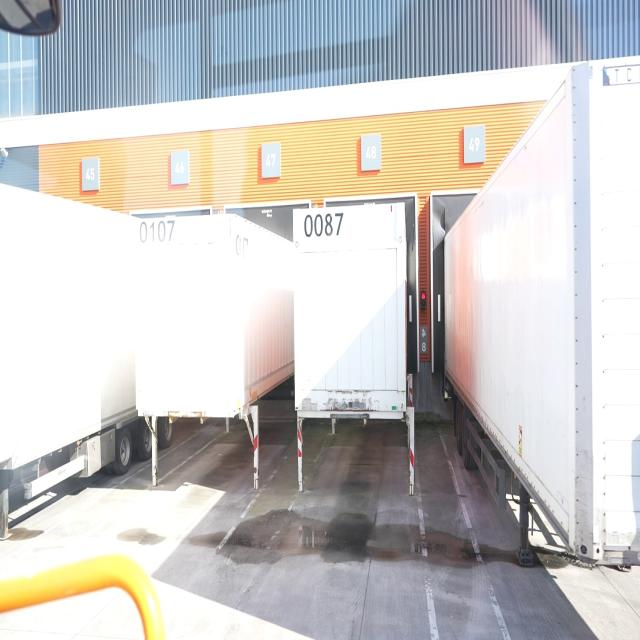Code: (299, 206, 347, 242), (137, 214, 181, 245)
